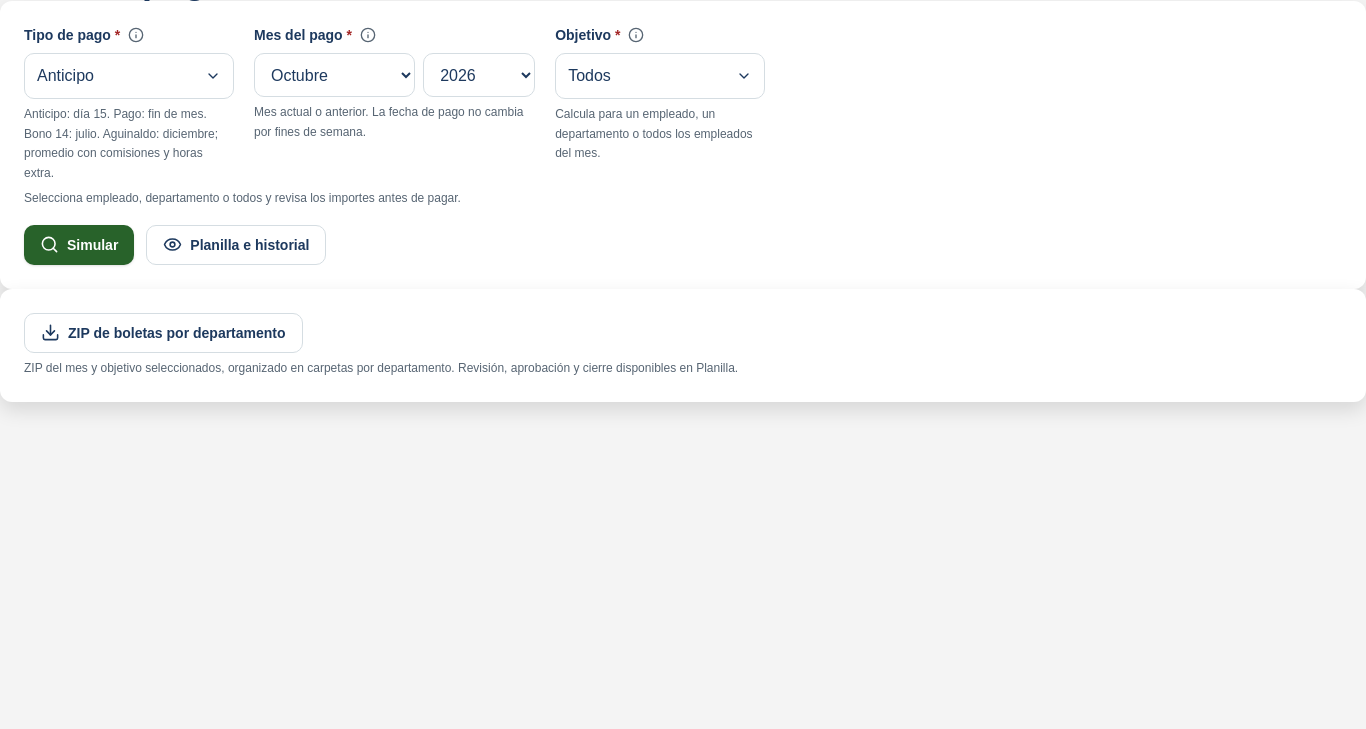
Test: A11: simulación guiada y confirmación › muestra alertas y totales reales y exige la casilla antes de pagar
The image size is (1366, 729).
Click the button "Simular" at coordinates (79, 244), box [24, 224, 134, 264]
(page scrolled)
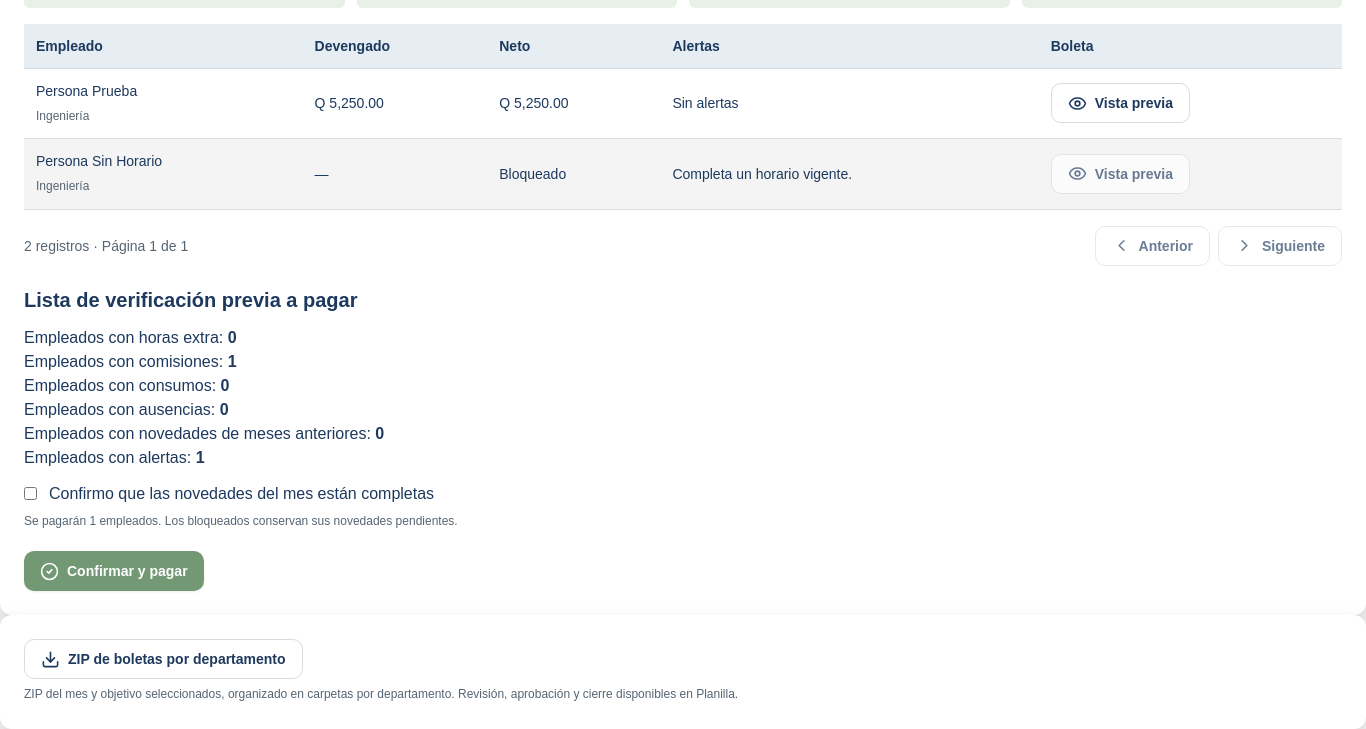
Result: the text "Persona Prueba" is shown at [36, 82, 137, 98]
Result: the list item "Completa un horario vigente." is shown at [672, 166, 852, 182]
Result: the button "Confirmar y pagar" is disabled at [24, 551, 204, 591]
Click the checkbox at coordinates (30, 494), box [24, 487, 37, 500]
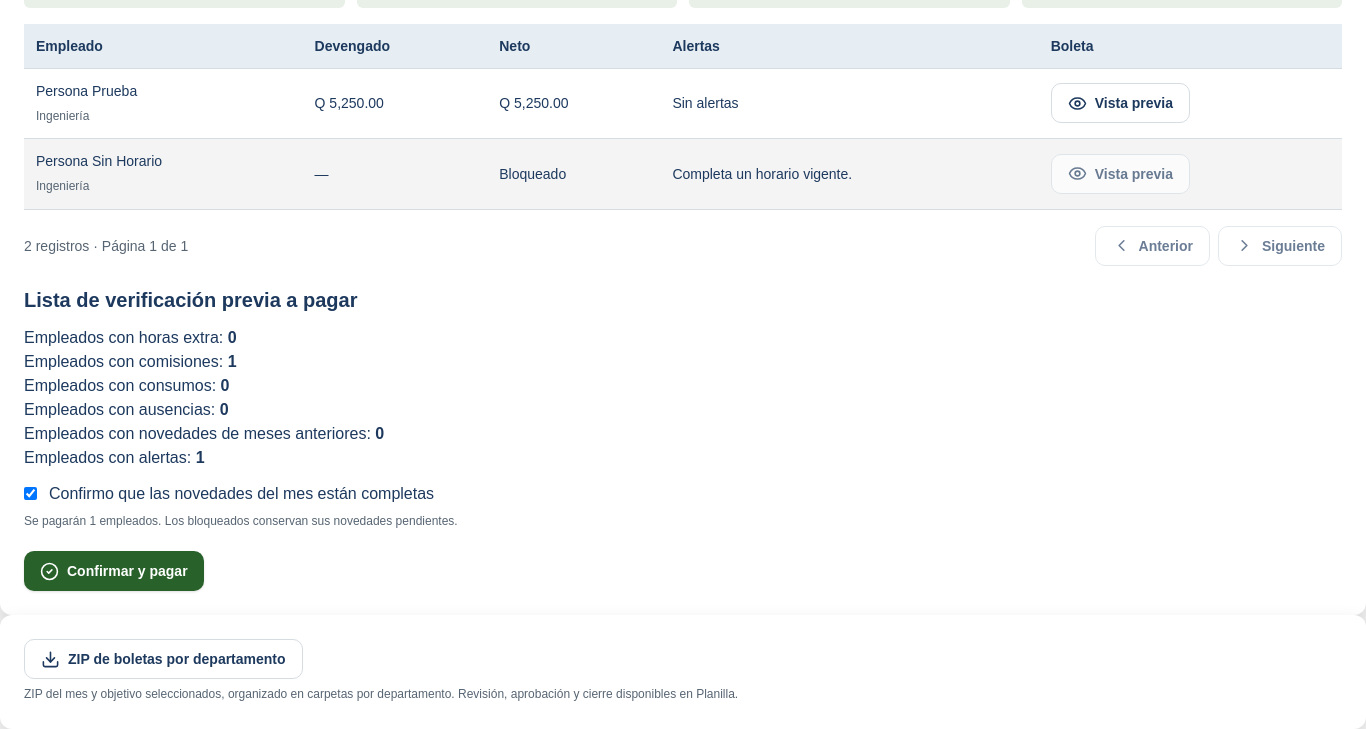
Result: the button "Confirmar y pagar" is enabled at [24, 551, 204, 591]
